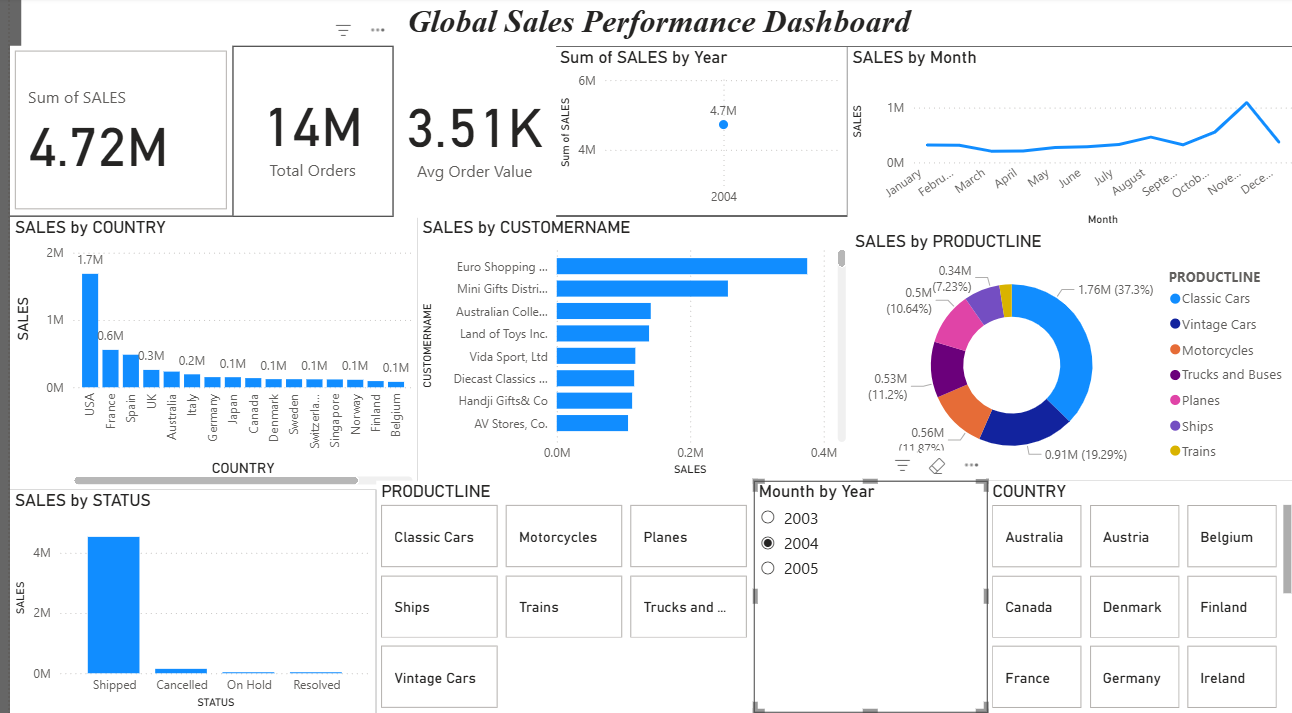

Layout of this report page (visuals, bound fields, positions):
{"tool":"powerbi","page":{"name":"Page 1","canvas":[1280,720],"ordinal":0},"visuals":[{"type":"clusteredColumnChart","fields":{"Category":["sales_data_sample.COUNTRY"],"Y":["Sum(sales_data_sample.SALES)"]},"box":[0,218.6,405.7,271.4],"z":0},{"type":"lineChart","fields":{"Y":["Sum(sales_data_sample.SALES)"],"Category":["sales_data_sample.ORDERDATE.Variation.Date Hierarchy.Year"]},"box":[542.9,50,290,167.1],"z":1000},{"type":"cardVisual","fields":{"Data":["Sum(sales_data_sample.SALES)"]},"box":[0,48.6,221.4,168.6],"z":2000},{"type":"lineChart","fields":{"Y":["Sum(sales_data_sample.SALES)"],"Category":["sales_data_sample.ORDERDATE.Variation.Date Hierarchy.Month"]},"box":[832.9,50,447.1,182.9],"z":3000},{"type":"clusteredBarChart","fields":{"Category":["sales_data_sample.CUSTOMERNAME"],"Y":["Sum(sales_data_sample.SALES)"]},"box":[405.7,218.6,431.4,262.9],"z":4000},{"type":"donutChart","fields":{"Category":["sales_data_sample.PRODUCTLINE"],"Y":["Sum(sales_data_sample.SALES)"]},"box":[835.7,232.9,444.3,248.6],"z":5000},{"type":"clusteredColumnChart","fields":{"Category":["sales_data_sample.STATUS"],"Y":["Sum(sales_data_sample.SALES)"]},"box":[0,490,364.3,222.9],"z":6000},{"type":"advancedSlicerVisual","fields":{"Values":["sales_data_sample.COUNTRY"]},"box":[972.9,481.4,307.1,231.4],"z":7000},{"type":"listSlicer","fields":{"Values":["sales_data_sample.ORDERDATE.Variation.Date Hierarchy.Year"]},"box":[740,481.4,232.9,231.4],"z":8000},{"type":"textbox","box":[11.4,0,1268.6,48.6],"z":9000},{"type":"card","fields":{"Values":["Sum(sales_data_sample.ORDERNUMBER)"]},"box":[221.4,48.6,160,170],"z":10000},{"type":"advancedSlicerVisual","fields":{"Values":["sales_data_sample.PRODUCTLINE"]},"box":[364.3,481.4,375.7,231.4],"z":10001},{"type":"card","fields":{"Values":["sales_data_sample.Avg Order Value"]},"box":[381.4,48.6,161.4,171.4],"z":10002}]}

Visuals, with their boxes in screenshot pixels (x1, y1, x2, y2), scaled from the page's 1280x720 canvas onto the 1292x713 screenshot:
clusteredColumnChart - sales_data_sample.COUNTRY x Sum(sales_data_sample.SALES): [left=0, top=216, right=410, bottom=485]
lineChart - Sum(sales_data_sample.SALES) x sales_data_sample.ORDERDATE.Variation.Date Hierarchy.Year: [left=548, top=50, right=841, bottom=215]
cardVisual - Sum(sales_data_sample.SALES): [left=0, top=48, right=223, bottom=215]
lineChart - Sum(sales_data_sample.SALES) x sales_data_sample.ORDERDATE.Variation.Date Hierarchy.Month: [left=841, top=50, right=1291, bottom=231]
clusteredBarChart - sales_data_sample.CUSTOMERNAME x Sum(sales_data_sample.SALES): [left=410, top=216, right=845, bottom=477]
donutChart - sales_data_sample.PRODUCTLINE x Sum(sales_data_sample.SALES): [left=844, top=231, right=1291, bottom=477]
clusteredColumnChart - sales_data_sample.STATUS x Sum(sales_data_sample.SALES): [left=0, top=485, right=368, bottom=706]
advancedSlicerVisual - sales_data_sample.COUNTRY: [left=982, top=477, right=1291, bottom=706]
listSlicer - sales_data_sample.ORDERDATE.Variation.Date Hierarchy.Year: [left=747, top=477, right=982, bottom=706]
textbox: [left=12, top=0, right=1291, bottom=48]
card - Sum(sales_data_sample.ORDERNUMBER): [left=223, top=48, right=385, bottom=216]
advancedSlicerVisual - sales_data_sample.PRODUCTLINE: [left=368, top=477, right=747, bottom=706]
card - sales_data_sample.Avg Order Value: [left=385, top=48, right=548, bottom=218]
